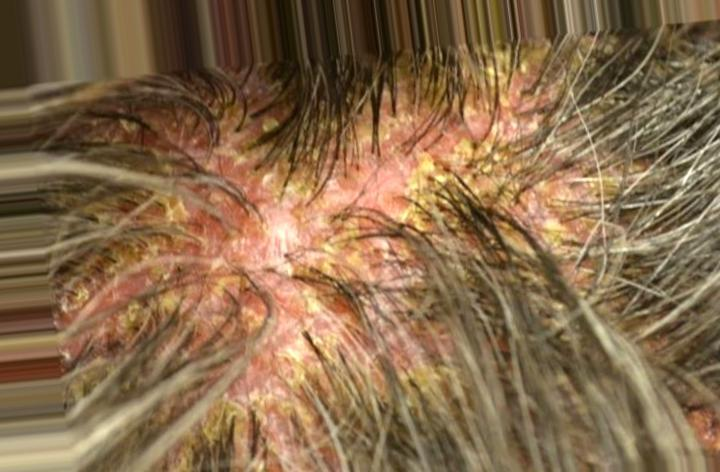Folliculitis: (164, 108, 501, 295)
